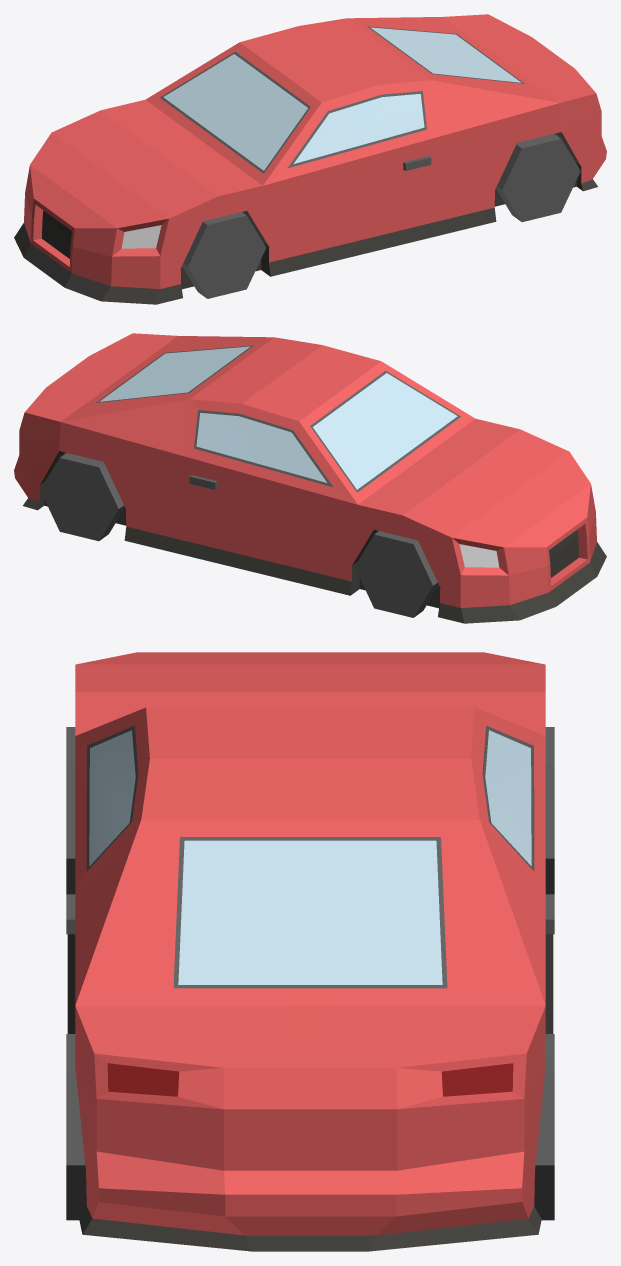
The model's file is Car_3_1.fbx.
3 renders of one model, top to bottom at view 1: azimuth 30°, elevation 25°; view 2: azimuth 150°, elevation 25°; view 3: azimuth 270°, elevation 25°, orthographic. The views are drawn at different scales.
Visible parts, largest first — view 1: Car_3_1; view 2: Car_3_1; view 3: Car_3_1.
Part boxes in pixels (x1,y1,x2,y2): Car_3_1: [14, 14, 606, 304]; Car_3_1: [14, 333, 606, 623]; Car_3_1: [66, 652, 554, 1251].
Bounding box in the file's own units: 7.4 × 2.03 × 2.96.
Materials: 1 (1 with a texture image).
